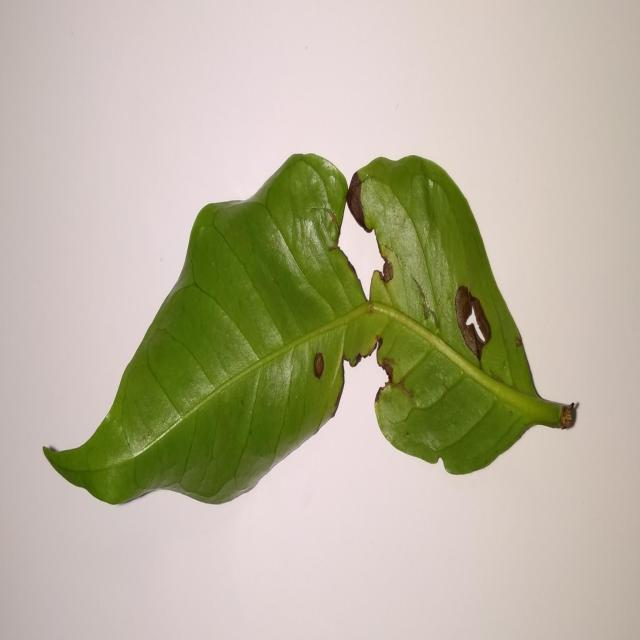Enfermedad-Antracnosis: (40, 152, 579, 508)
